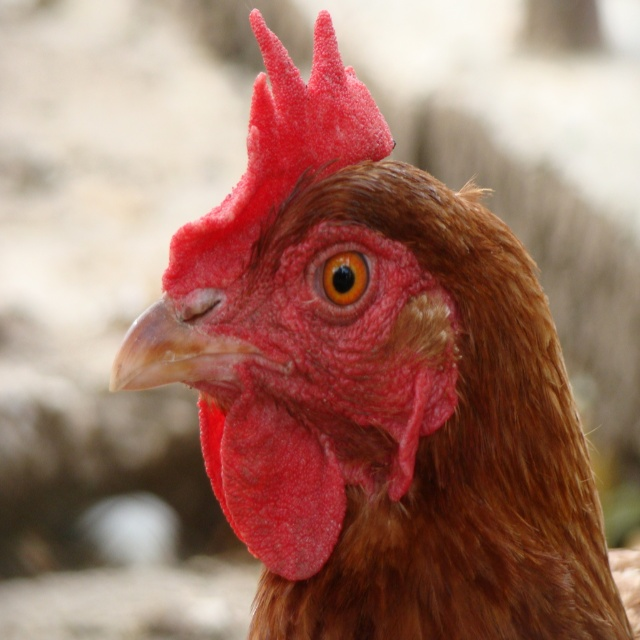Chicken: (104, 40, 640, 640)
